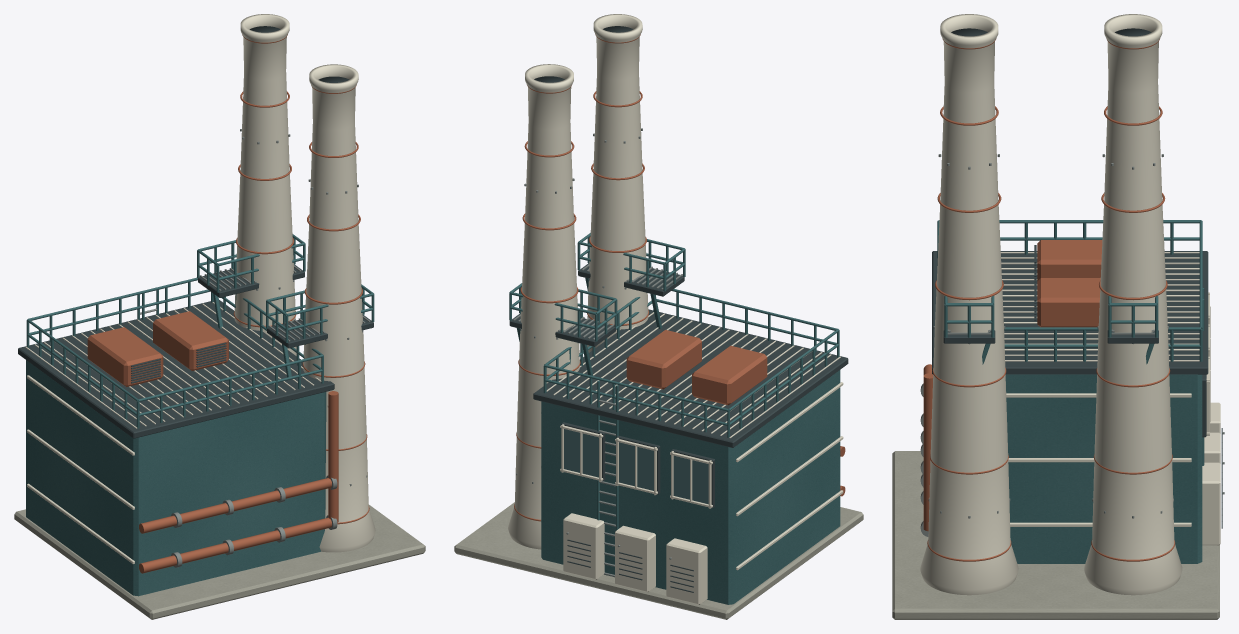
3 views of the same model, side by side, from view 1: azimuth 30°, elevation 25°; view 2: azimuth 150°, elevation 25°; view 3: azimuth 270°, elevation 25° (orthographic). The views are drawn at different scales.
Parts seen in each view (by area): view 1: static_assembly_steel, static_assembly_ivory, static_assembly_dark, static_assembly_rust, static_assembly_concrete, static_assembly_bolt; view 2: static_assembly_ivory, static_assembly_steel, static_assembly_dark, static_assembly_rust, static_assembly_concrete, static_assembly_glass, static_assembly_bolt; view 3: static_assembly_ivory, static_assembly_steel, static_assembly_concrete, static_assembly_dark, static_assembly_rust, static_assembly_bolt.
Boxes of the visible parts, bbox=[...] form: static_assembly_steel: bbox=[26, 234, 374, 596]; static_assembly_ivory: bbox=[25, 14, 375, 564]; static_assembly_dark: bbox=[18, 26, 373, 438]; static_assembly_rust: bbox=[87, 34, 369, 573]; static_assembly_concrete: bbox=[14, 504, 425, 619]; static_assembly_bolt: bbox=[140, 129, 370, 567]; static_assembly_ivory: bbox=[508, 14, 843, 604]; static_assembly_steel: bbox=[509, 233, 840, 604]; static_assembly_dark: bbox=[509, 26, 848, 592]; static_assembly_rust: bbox=[514, 34, 845, 521]; static_assembly_concrete: bbox=[454, 502, 863, 619]; static_assembly_glass: bbox=[564, 429, 708, 504]; static_assembly_bolt: bbox=[513, 128, 682, 576]; static_assembly_ivory: bbox=[920, 14, 1220, 595]; static_assembly_steel: bbox=[937, 220, 1204, 563]; static_assembly_concrete: bbox=[892, 451, 1219, 619]; static_assembly_dark: bbox=[932, 28, 1222, 528]; static_assembly_rust: bbox=[923, 38, 1175, 561]; static_assembly_bolt: bbox=[920, 154, 1224, 536].
Bounding box in the file's own units: 8 × 13 × 7.
7 materials, 2 textured.
